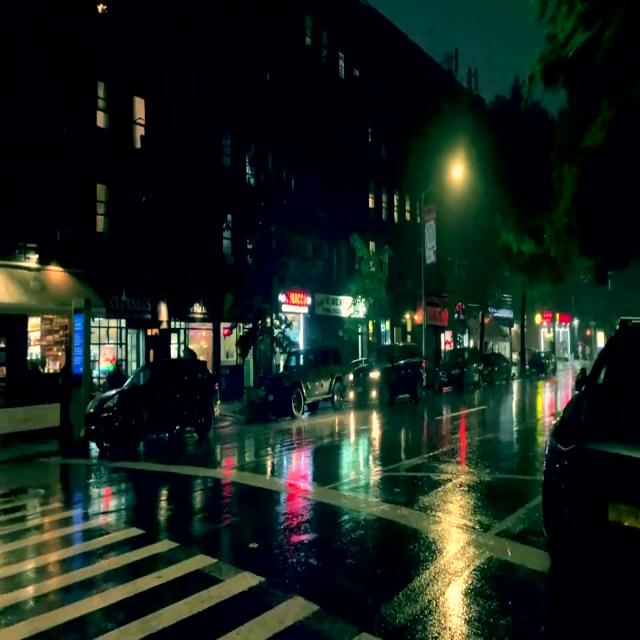Car: (83, 362, 220, 442), (349, 341, 424, 406), (280, 349, 343, 416), (439, 346, 482, 388)
